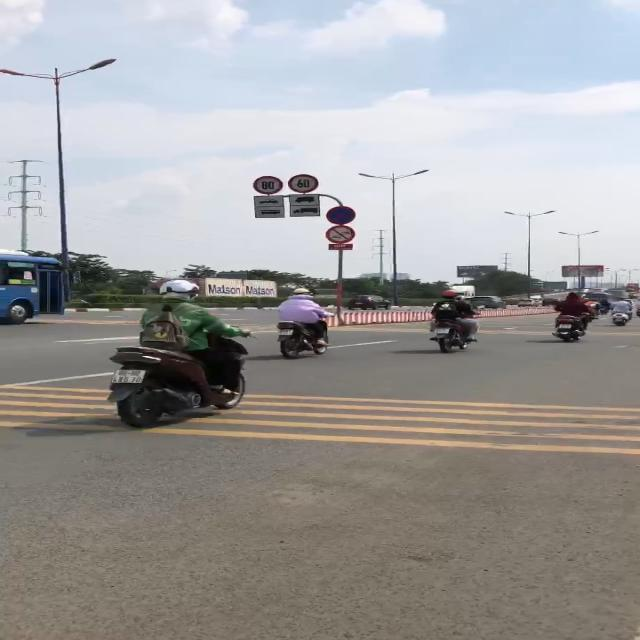Bien bao cam dung xe va do xe: (326, 206, 359, 224)
Bien bao toc do toi da cho phep: (252, 174, 285, 196), (288, 173, 320, 193)
